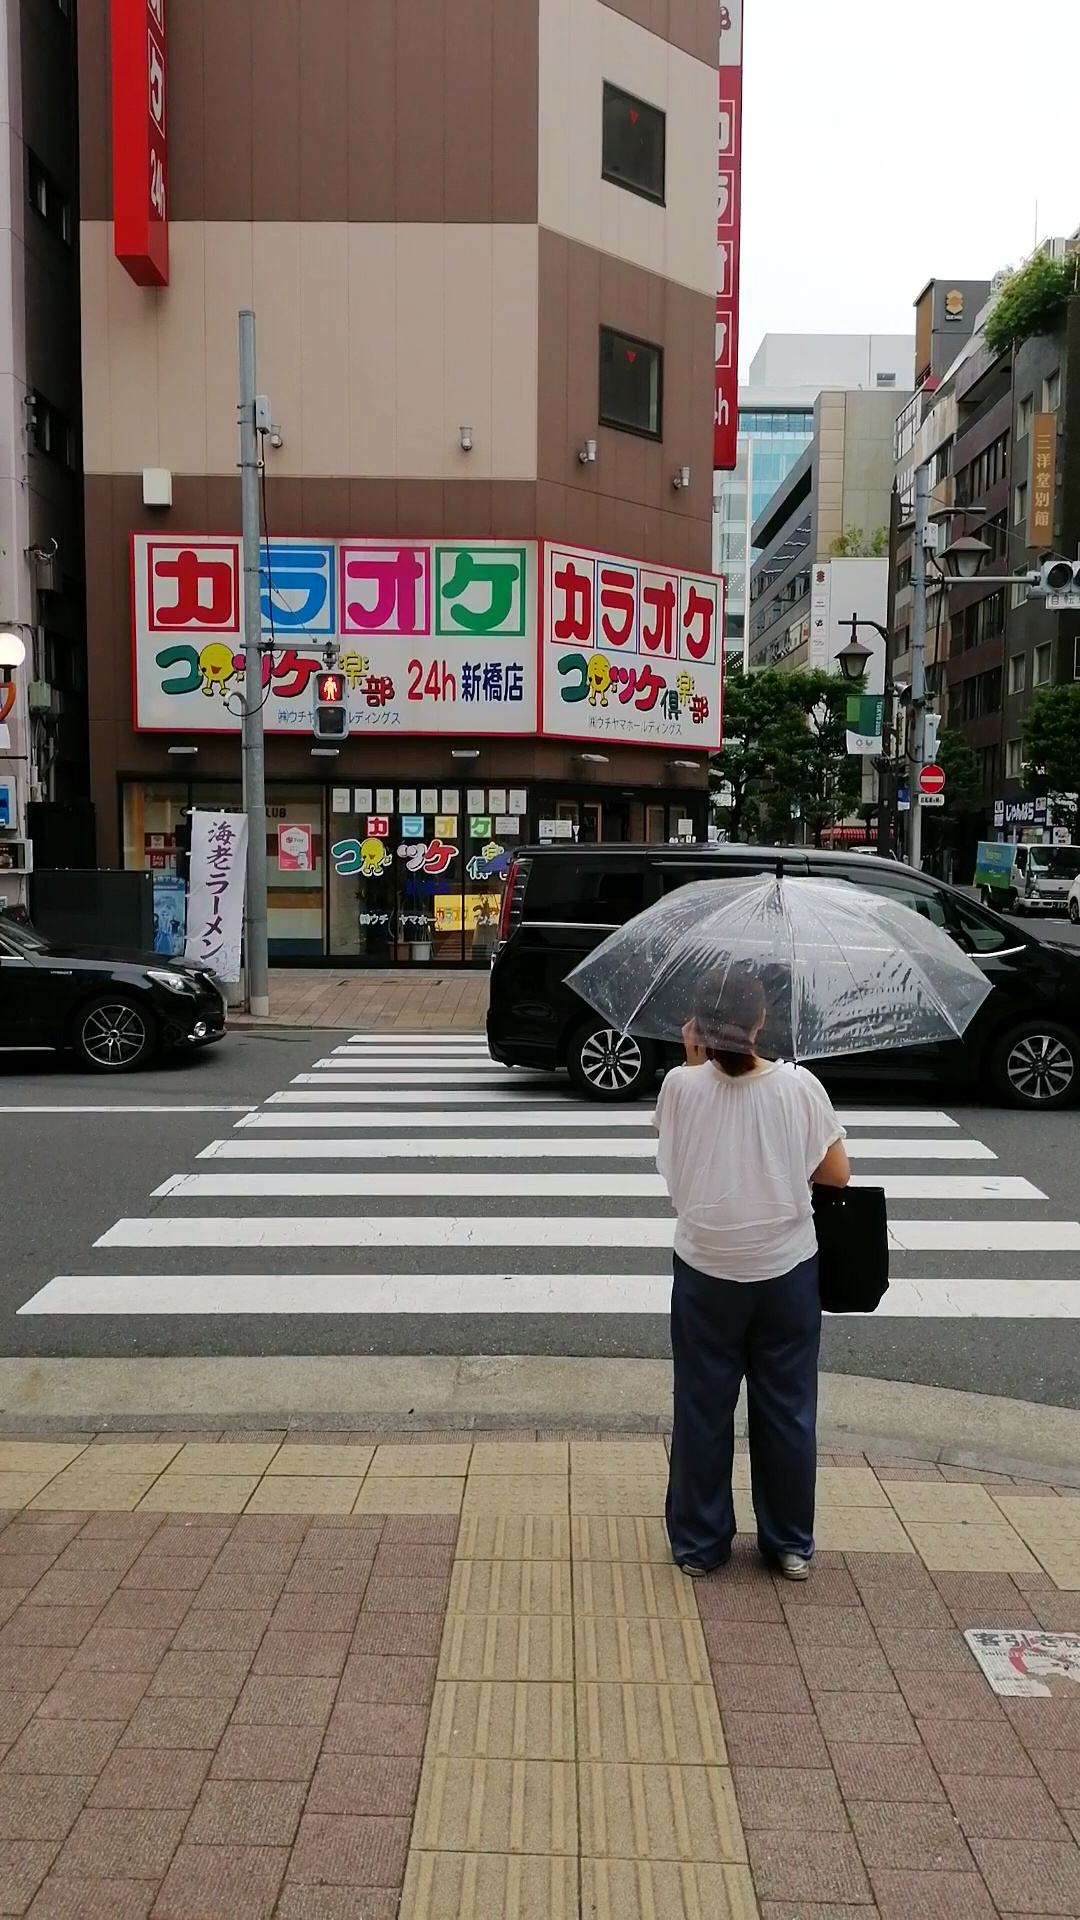red: (314, 669, 347, 742)
